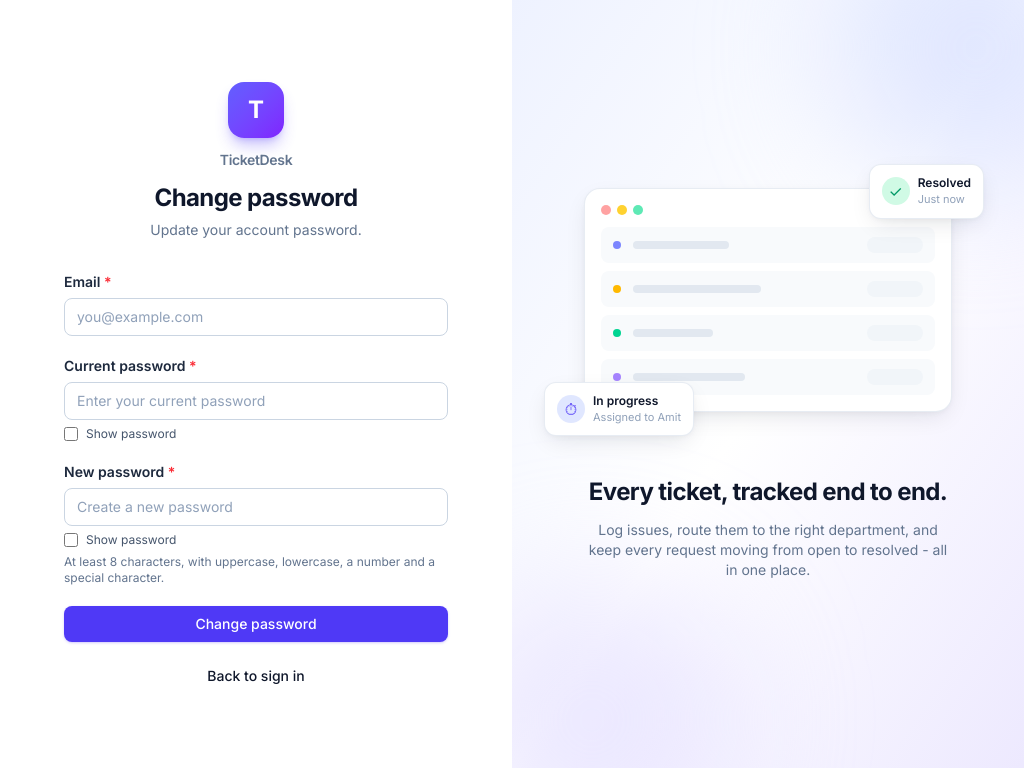
Test: ChangePasswordPage › submits the trimmed, lowercased email and shows a success message
The width and height of the screenshot is (1024, 768).
Step 1. Type "  Jane@Example.com  " into the field labelled "Email *" → point(256, 317), box x1=64 y1=298 x2=448 y2=336
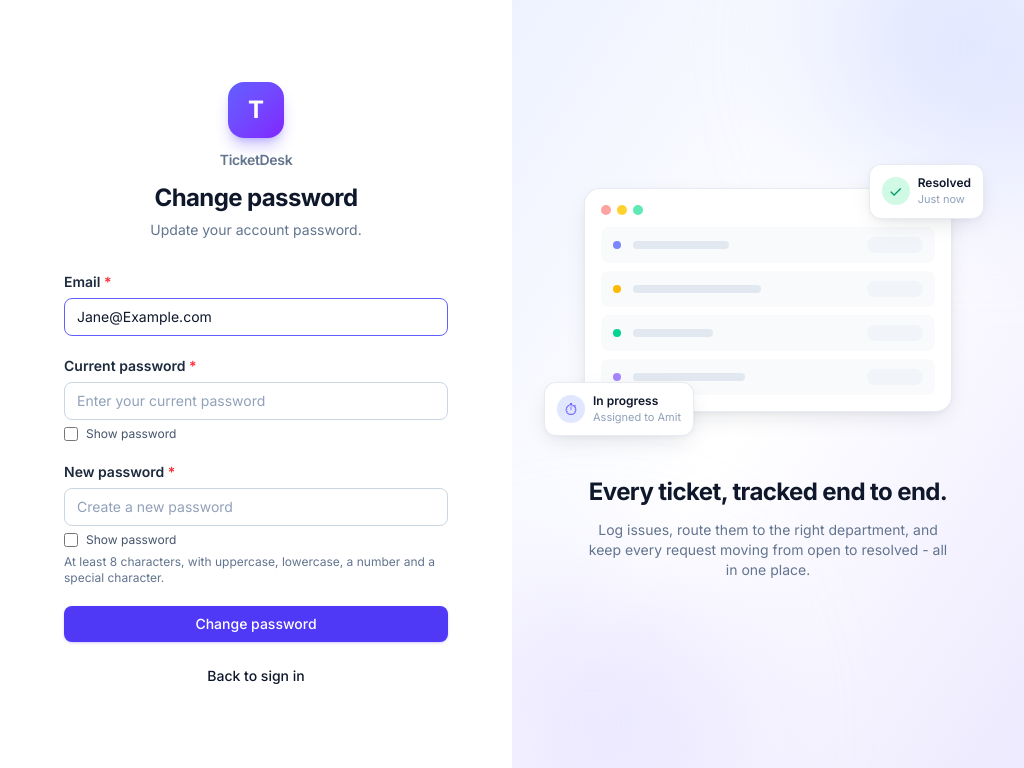
Step 2. Type "OldPass1!" into the password field labelled "Current password *" → point(256, 401), box x1=64 y1=382 x2=448 y2=420
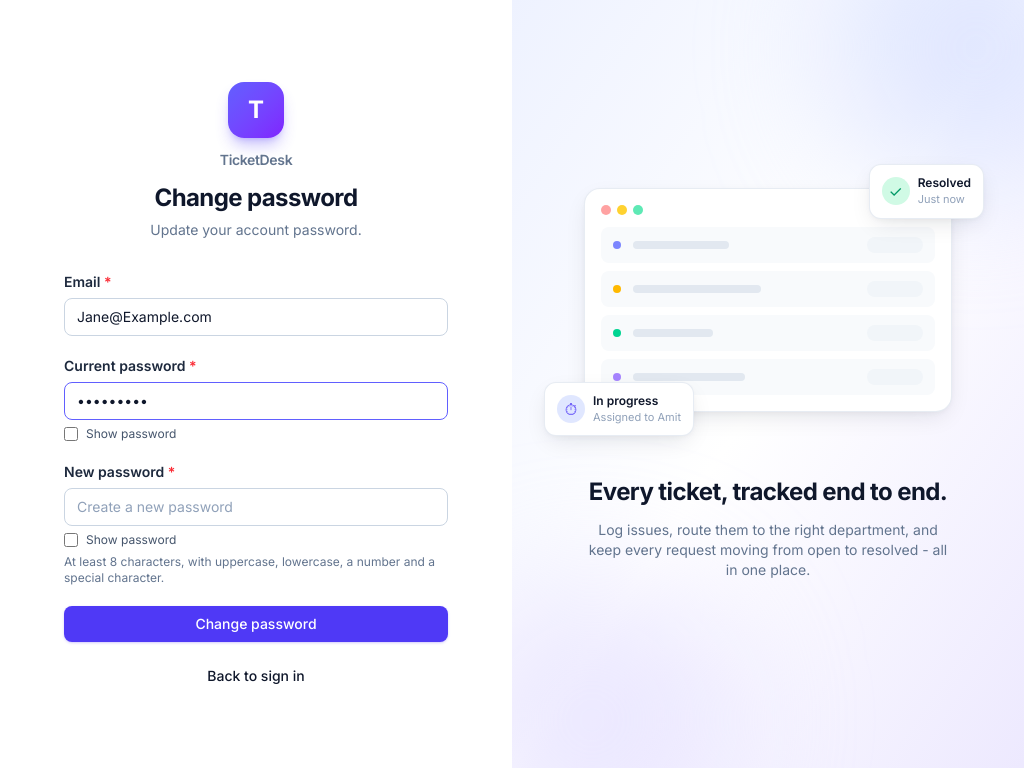
Step 3. Type "NewPass2@" into the password field labelled "New password *" → point(256, 507), box x1=64 y1=488 x2=448 y2=526
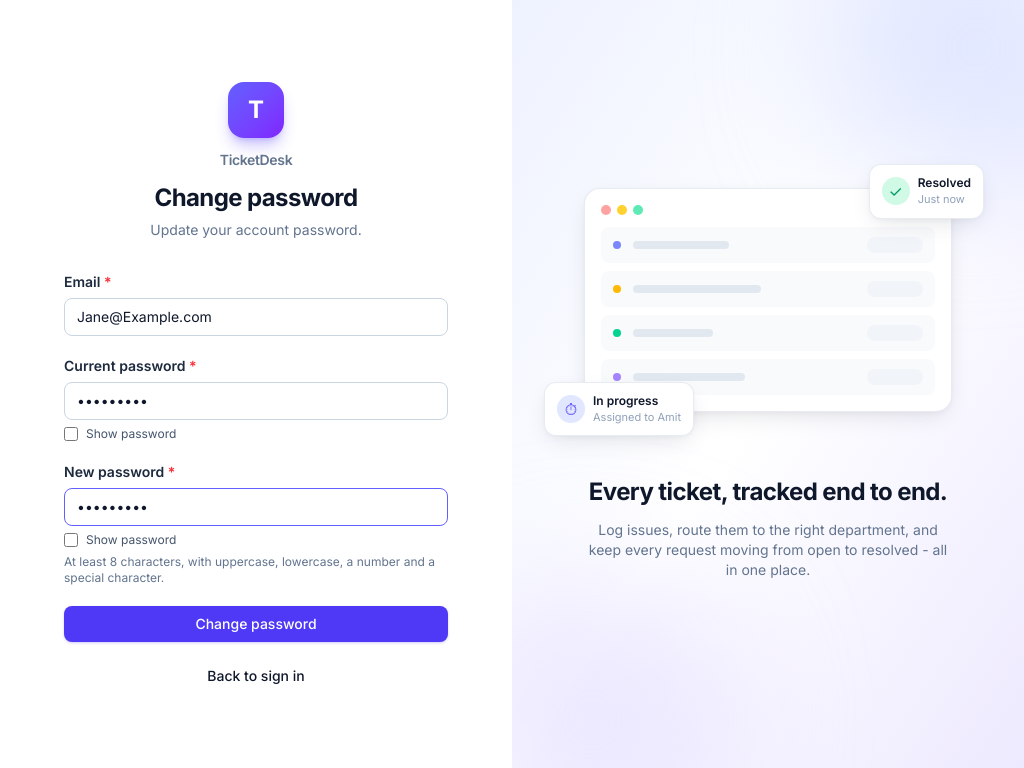
Step 4. Click the button "Change password" → point(256, 624), box x1=64 y1=606 x2=448 y2=642
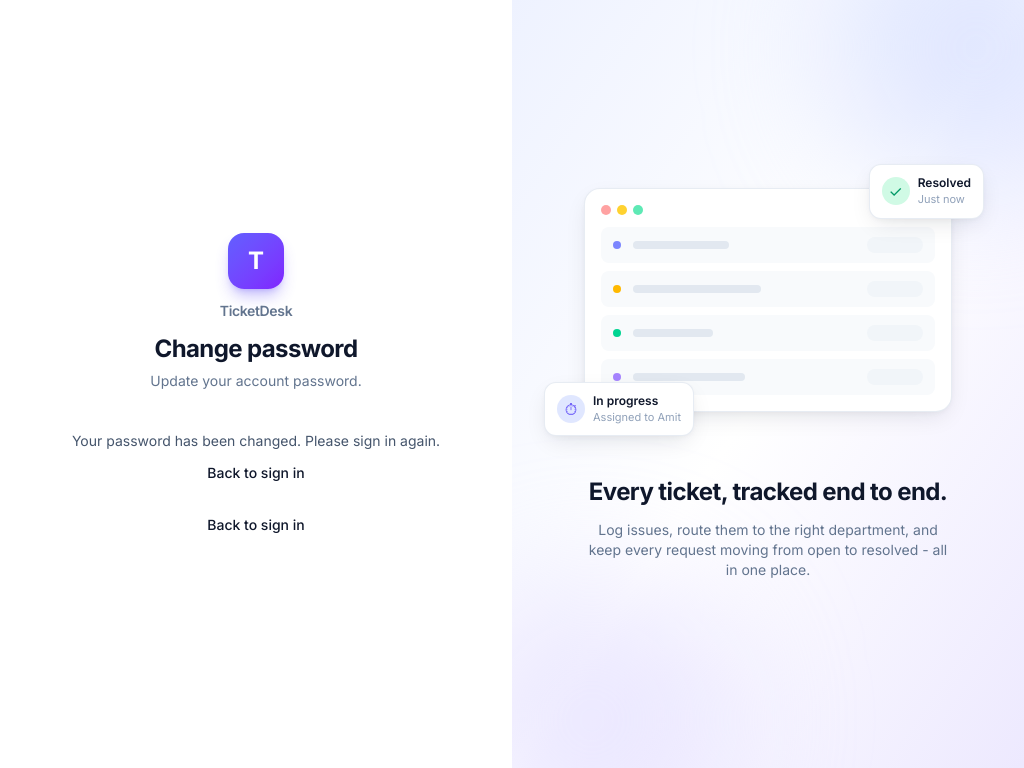
expect the text "Your password has been changed. Please sign in again." is shown: met, box x1=72 y1=431 x2=440 y2=451
